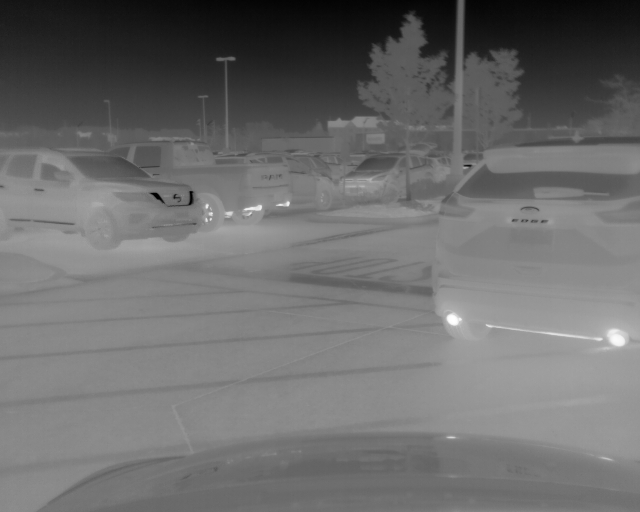car: (425, 136, 640, 354), (1, 148, 202, 247), (105, 143, 292, 229), (215, 150, 342, 224), (338, 150, 441, 205)
